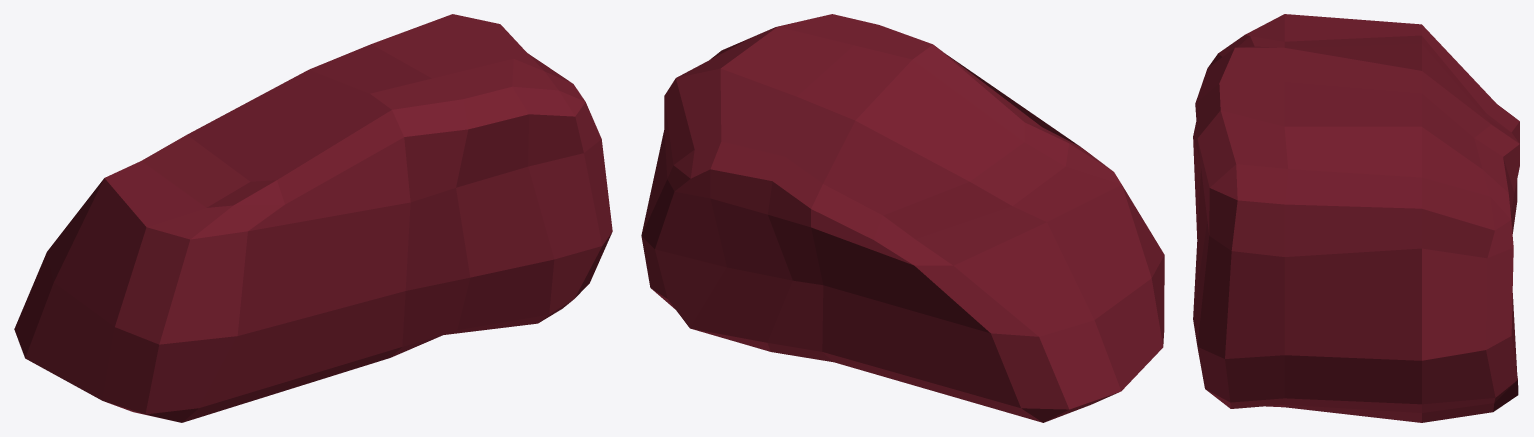
Rendered from bricks_001_ msh.fbx.
3 renders of one model, left to right at view 1: azimuth 30°, elevation 25°; view 2: azimuth 150°, elevation 25°; view 3: azimuth 270°, elevation 25°, orthographic. The views are drawn at different scales.
Visible parts, largest first — view 1: bricks_001_ msh; view 2: bricks_001_ msh; view 3: bricks_001_ msh.
Part boxes in pixels (<box>): bricks_001_ msh: <box>14,14,612,422</box>; bricks_001_ msh: <box>641,14,1164,422</box>; bricks_001_ msh: <box>1193,14,1519,422</box>.
Bounding box in the file's own units: 60 × 30 × 30.
